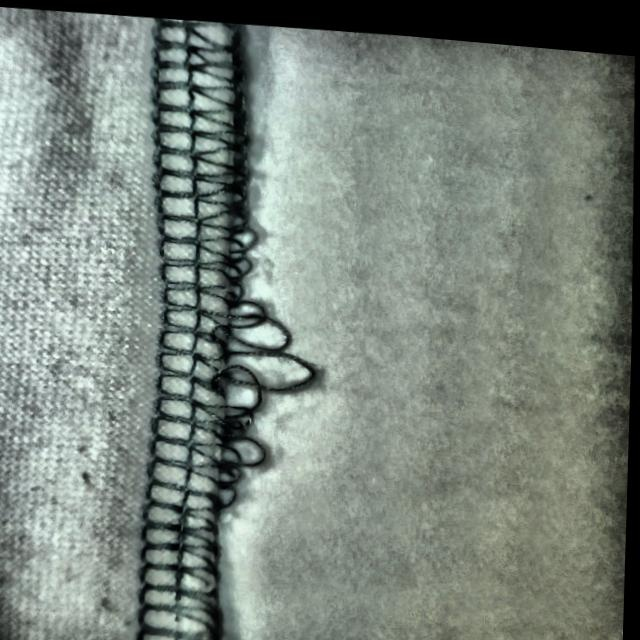Stitch: (120, 200, 344, 525)
